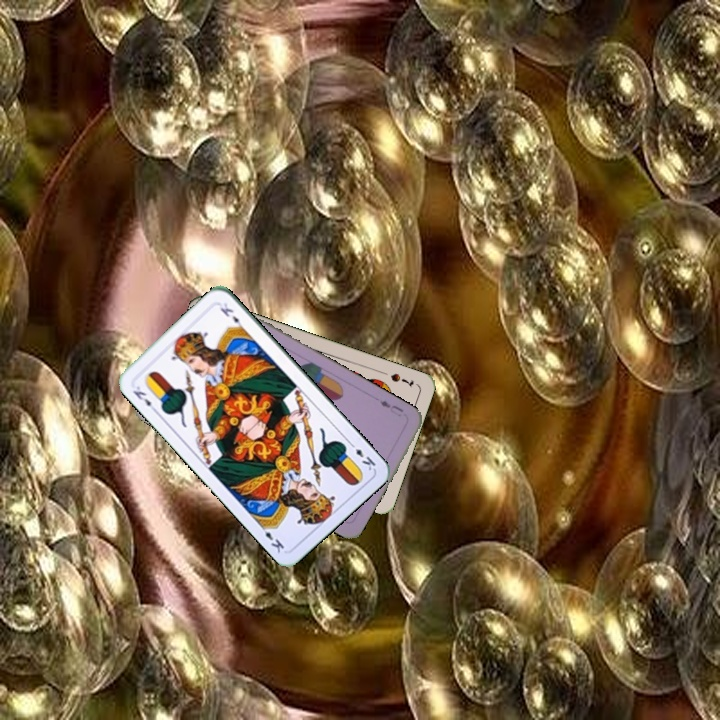EK: (345, 438, 378, 473), (128, 379, 159, 413)
EU: (376, 396, 406, 419)
S7: (386, 369, 416, 390)
